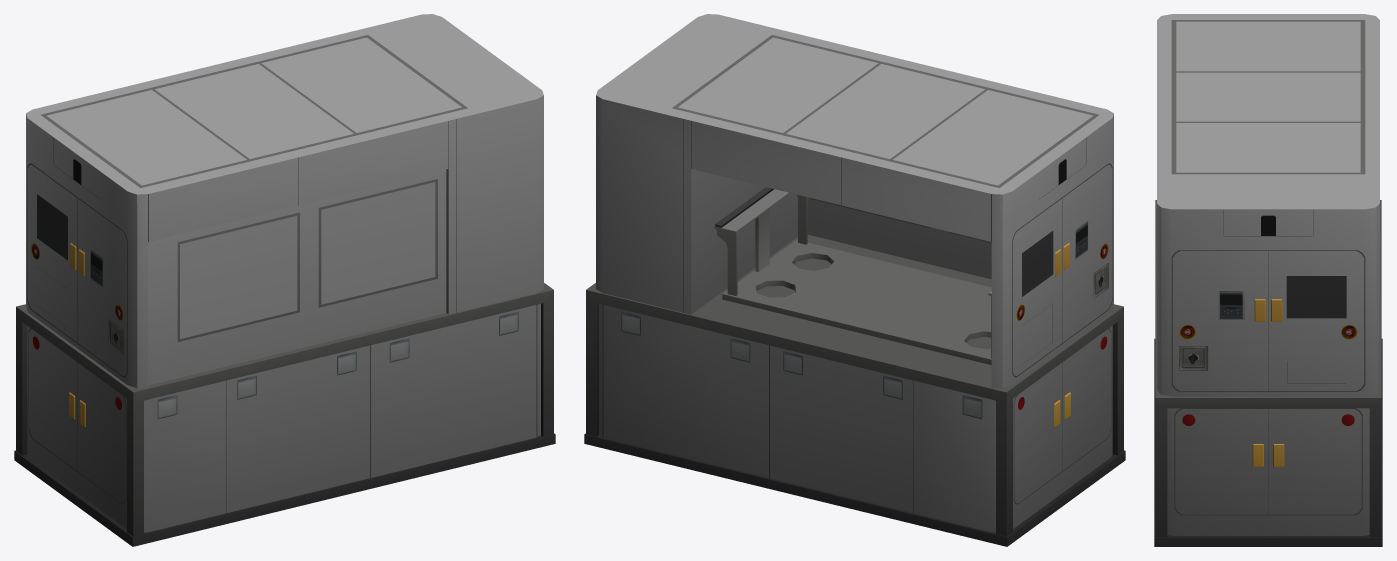
Rendered from AGV_CFMask_R01.glb.
The picture shows the model from 3 angles, left to right: view 1: azimuth 30°, elevation 25°; view 2: azimuth 150°, elevation 25°; view 3: azimuth 270°, elevation 25°; orthographic projection. The views are drawn at different scales.
Visible parts, largest first — view 1: AGV_CFMask_R01; view 2: AGV_CFMask_R01; view 3: AGV_CFMask_R01.
Part boxes in pixels (x1,y1,x2,y2): AGV_CFMask_R01: [14, 14, 555, 546]; AGV_CFMask_R01: [584, 14, 1125, 546]; AGV_CFMask_R01: [1154, 14, 1382, 546].
Bounding box in the file's own units: 3.13 × 2.46 × 1.52.
Materials: 1 (1 with a texture image).
